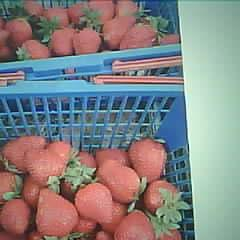straw-ripe: (36, 189, 77, 236), (77, 184, 112, 224), (27, 148, 64, 184), (117, 208, 154, 240)
